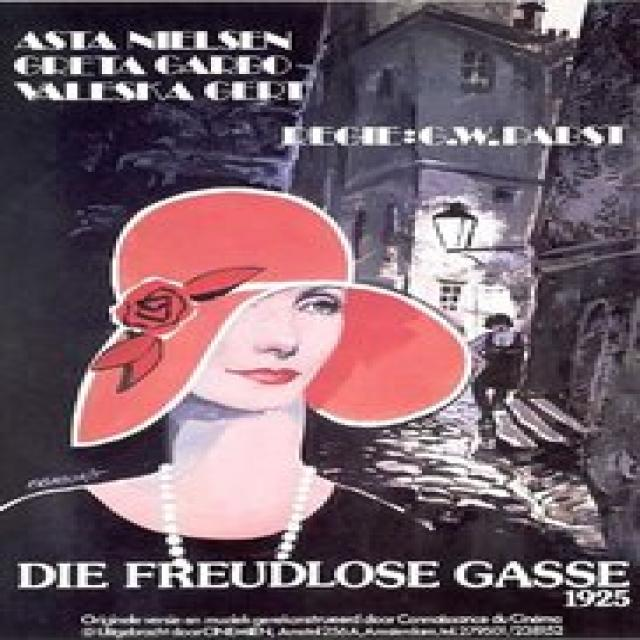movie-judul: (10, 12, 640, 166), (8, 527, 640, 610)
picture: (0, 1, 640, 639)
